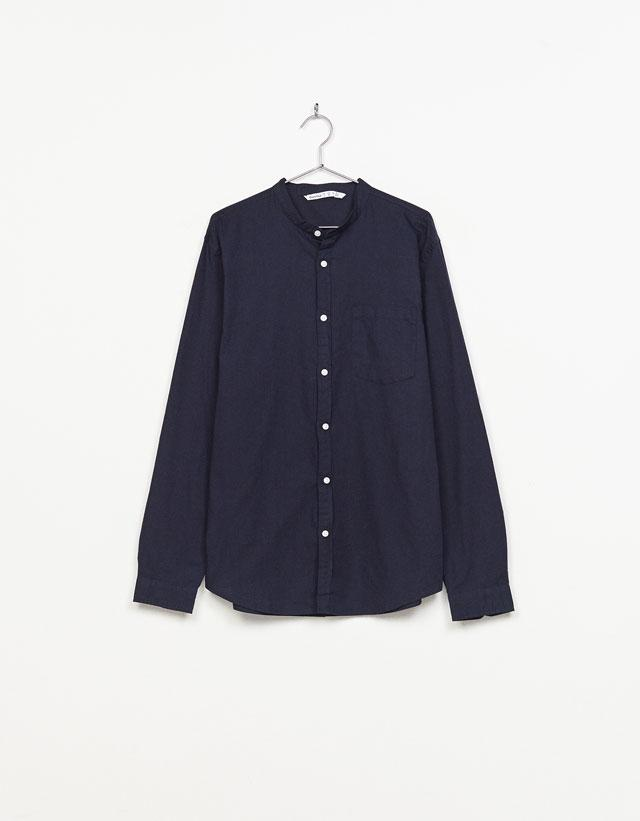teeshirt: (128, 170, 533, 639)
